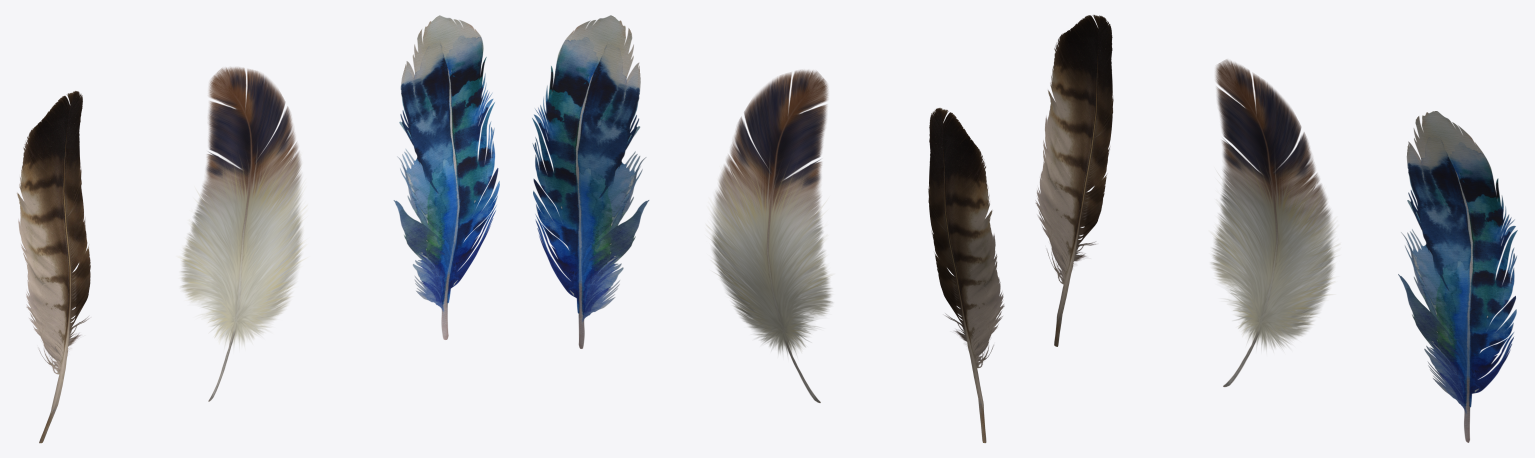
File: 3_great_feathers_pack.glb
The picture shows the model from 3 angles, left to right: view 1: azimuth 30°, elevation 25°; view 2: azimuth 150°, elevation 25°; view 3: azimuth 330°, elevation 25°; orthographic projection. The views are drawn at different scales.
Parts seen in each view (by area): view 1: sparrow feather_1, fairy feather_2, eagle feather_0; view 2: sparrow feather_1, fairy feather_2, eagle feather_0; view 3: sparrow feather_1, fairy feather_2, eagle feather_0.
Part boxes in pixels (<box>): sparrow feather_1: <box>180,67,305,401</box>; fairy feather_2: <box>393,15,499,339</box>; eagle feather_0: <box>17,91,90,443</box>; sparrow feather_1: <box>708,70,832,402</box>; fairy feather_2: <box>532,15,649,348</box>; eagle feather_0: <box>928,107,1004,443</box>; sparrow feather_1: <box>1211,59,1337,386</box>; fairy feather_2: <box>1398,111,1517,442</box>; eagle feather_0: <box>1035,15,1113,346</box>.
Size of the model in its own units: 1.48 by 1 by 0.1013.
3 materials, 3 textured.
